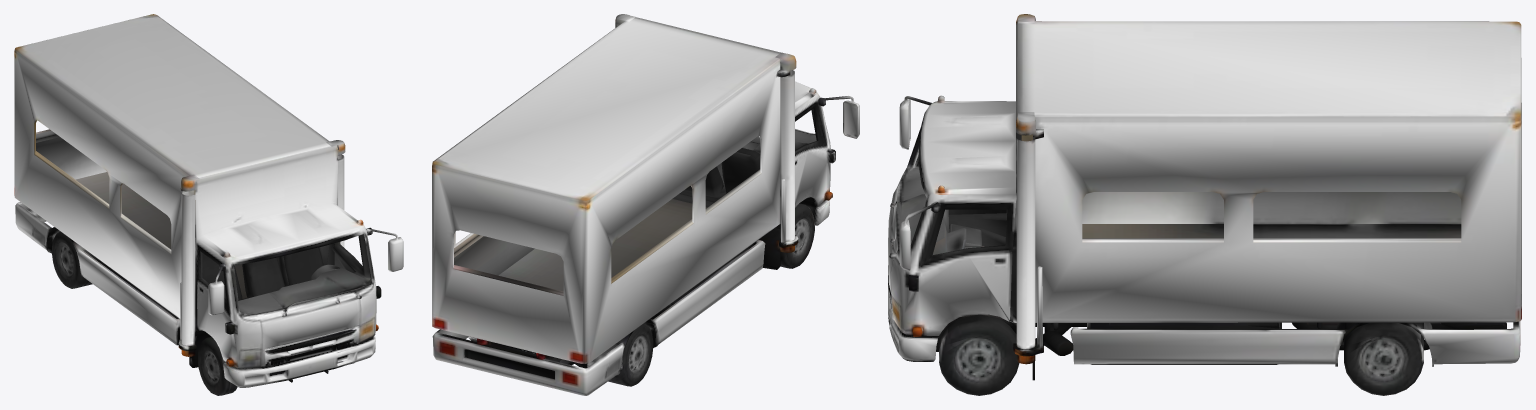
File: isuzu.glb
3 views of the same model, side by side, from view 1: azimuth 30°, elevation 25°; view 2: azimuth 150°, elevation 25°; view 3: azimuth 270°, elevation 25° (orthographic). The views are drawn at different scales.
Visible parts, largest first — view 1: mesh_input; view 2: mesh_input; view 3: mesh_input.
Part boxes in pixels (x1,y1,x2,y2): mesh_input: [14, 14, 403, 395]; mesh_input: [432, 14, 859, 395]; mesh_input: [888, 14, 1521, 395].
Size of the model in its own units: 0.9257 by 0.9375 by 1.9.
Materials: 1 (1 with a texture image).
